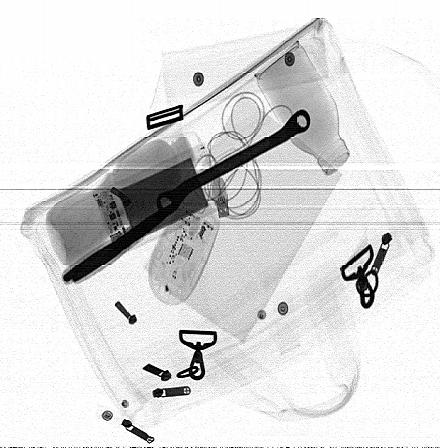Pliers: (63, 199, 183, 284)
Powerbank: (91, 143, 226, 257)
Wrench: (157, 108, 311, 216)
